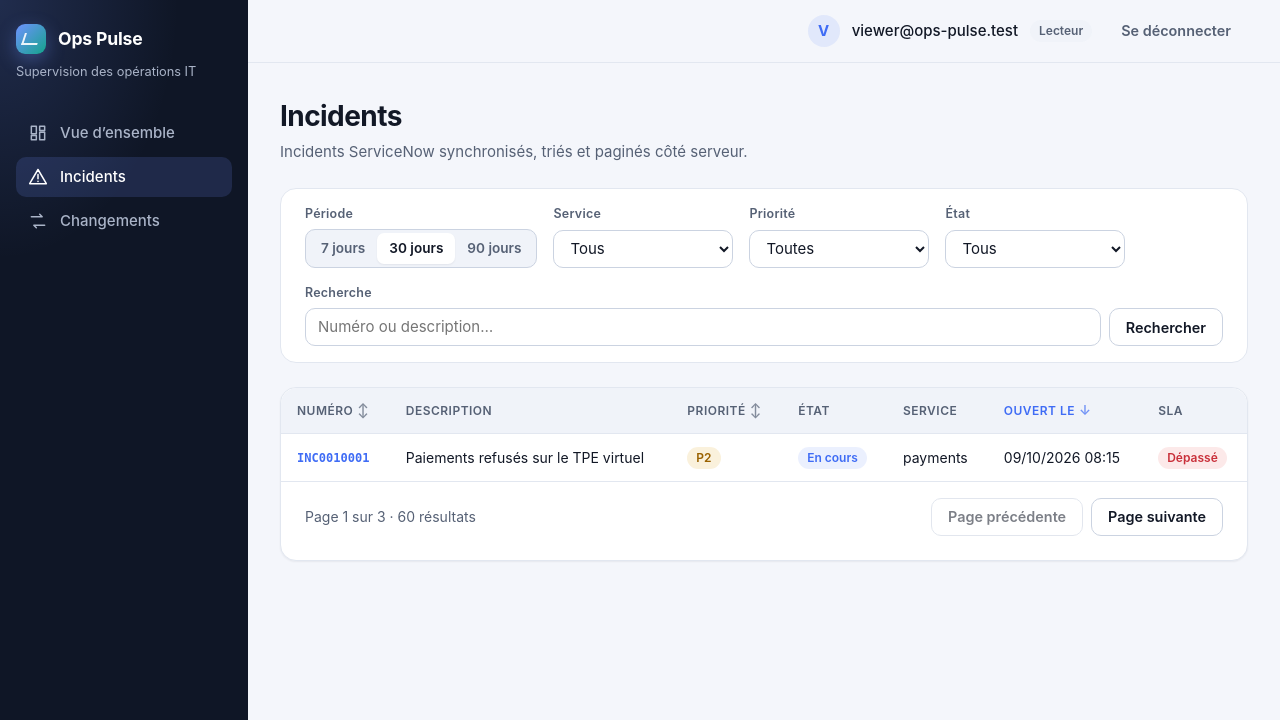
Test case: IncidentsPage › paginates server-side and restarts at page 1 when a filter changes
Check: the text "Page 1 sur 3 · 60 résultats" is shown, box [305,506,476,527]
Step 1. Click the button "Page suivante" → x=1157, y=517, box [1091,498,1223,536]
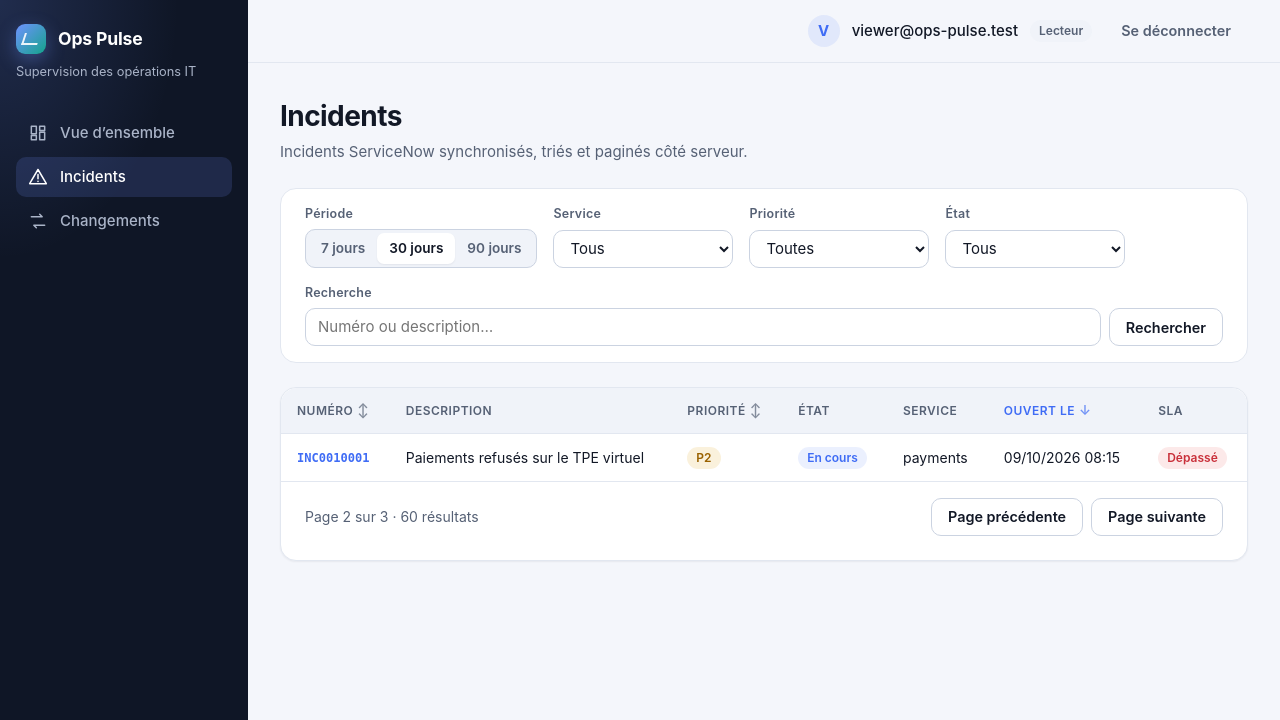
Check: the text "Page 2 sur 3 · 60 résultats" is shown, box [305,506,479,527]
Step 2. Select "Nouveau" in the dropdown labelled "État" → x=1036, y=249, box [946,230,1126,268]
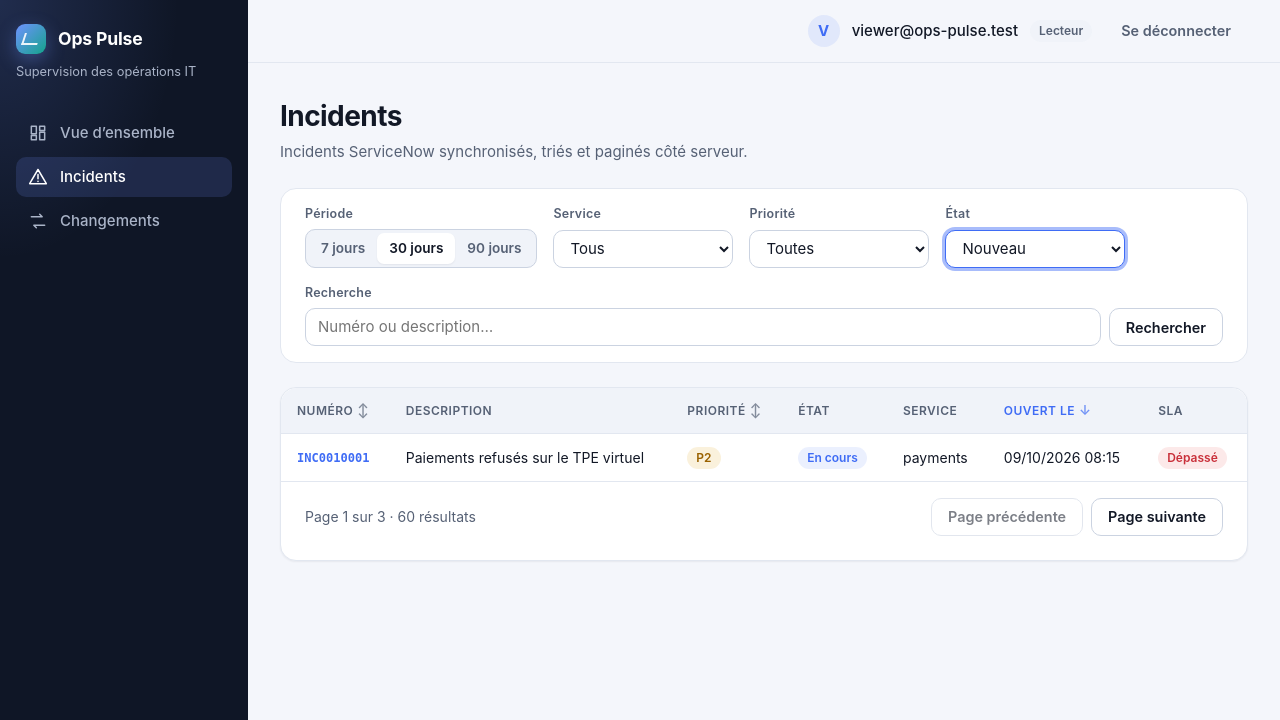
Check: the text "Page 1 sur 3 · 60 résultats" is shown, box [305,506,476,527]
